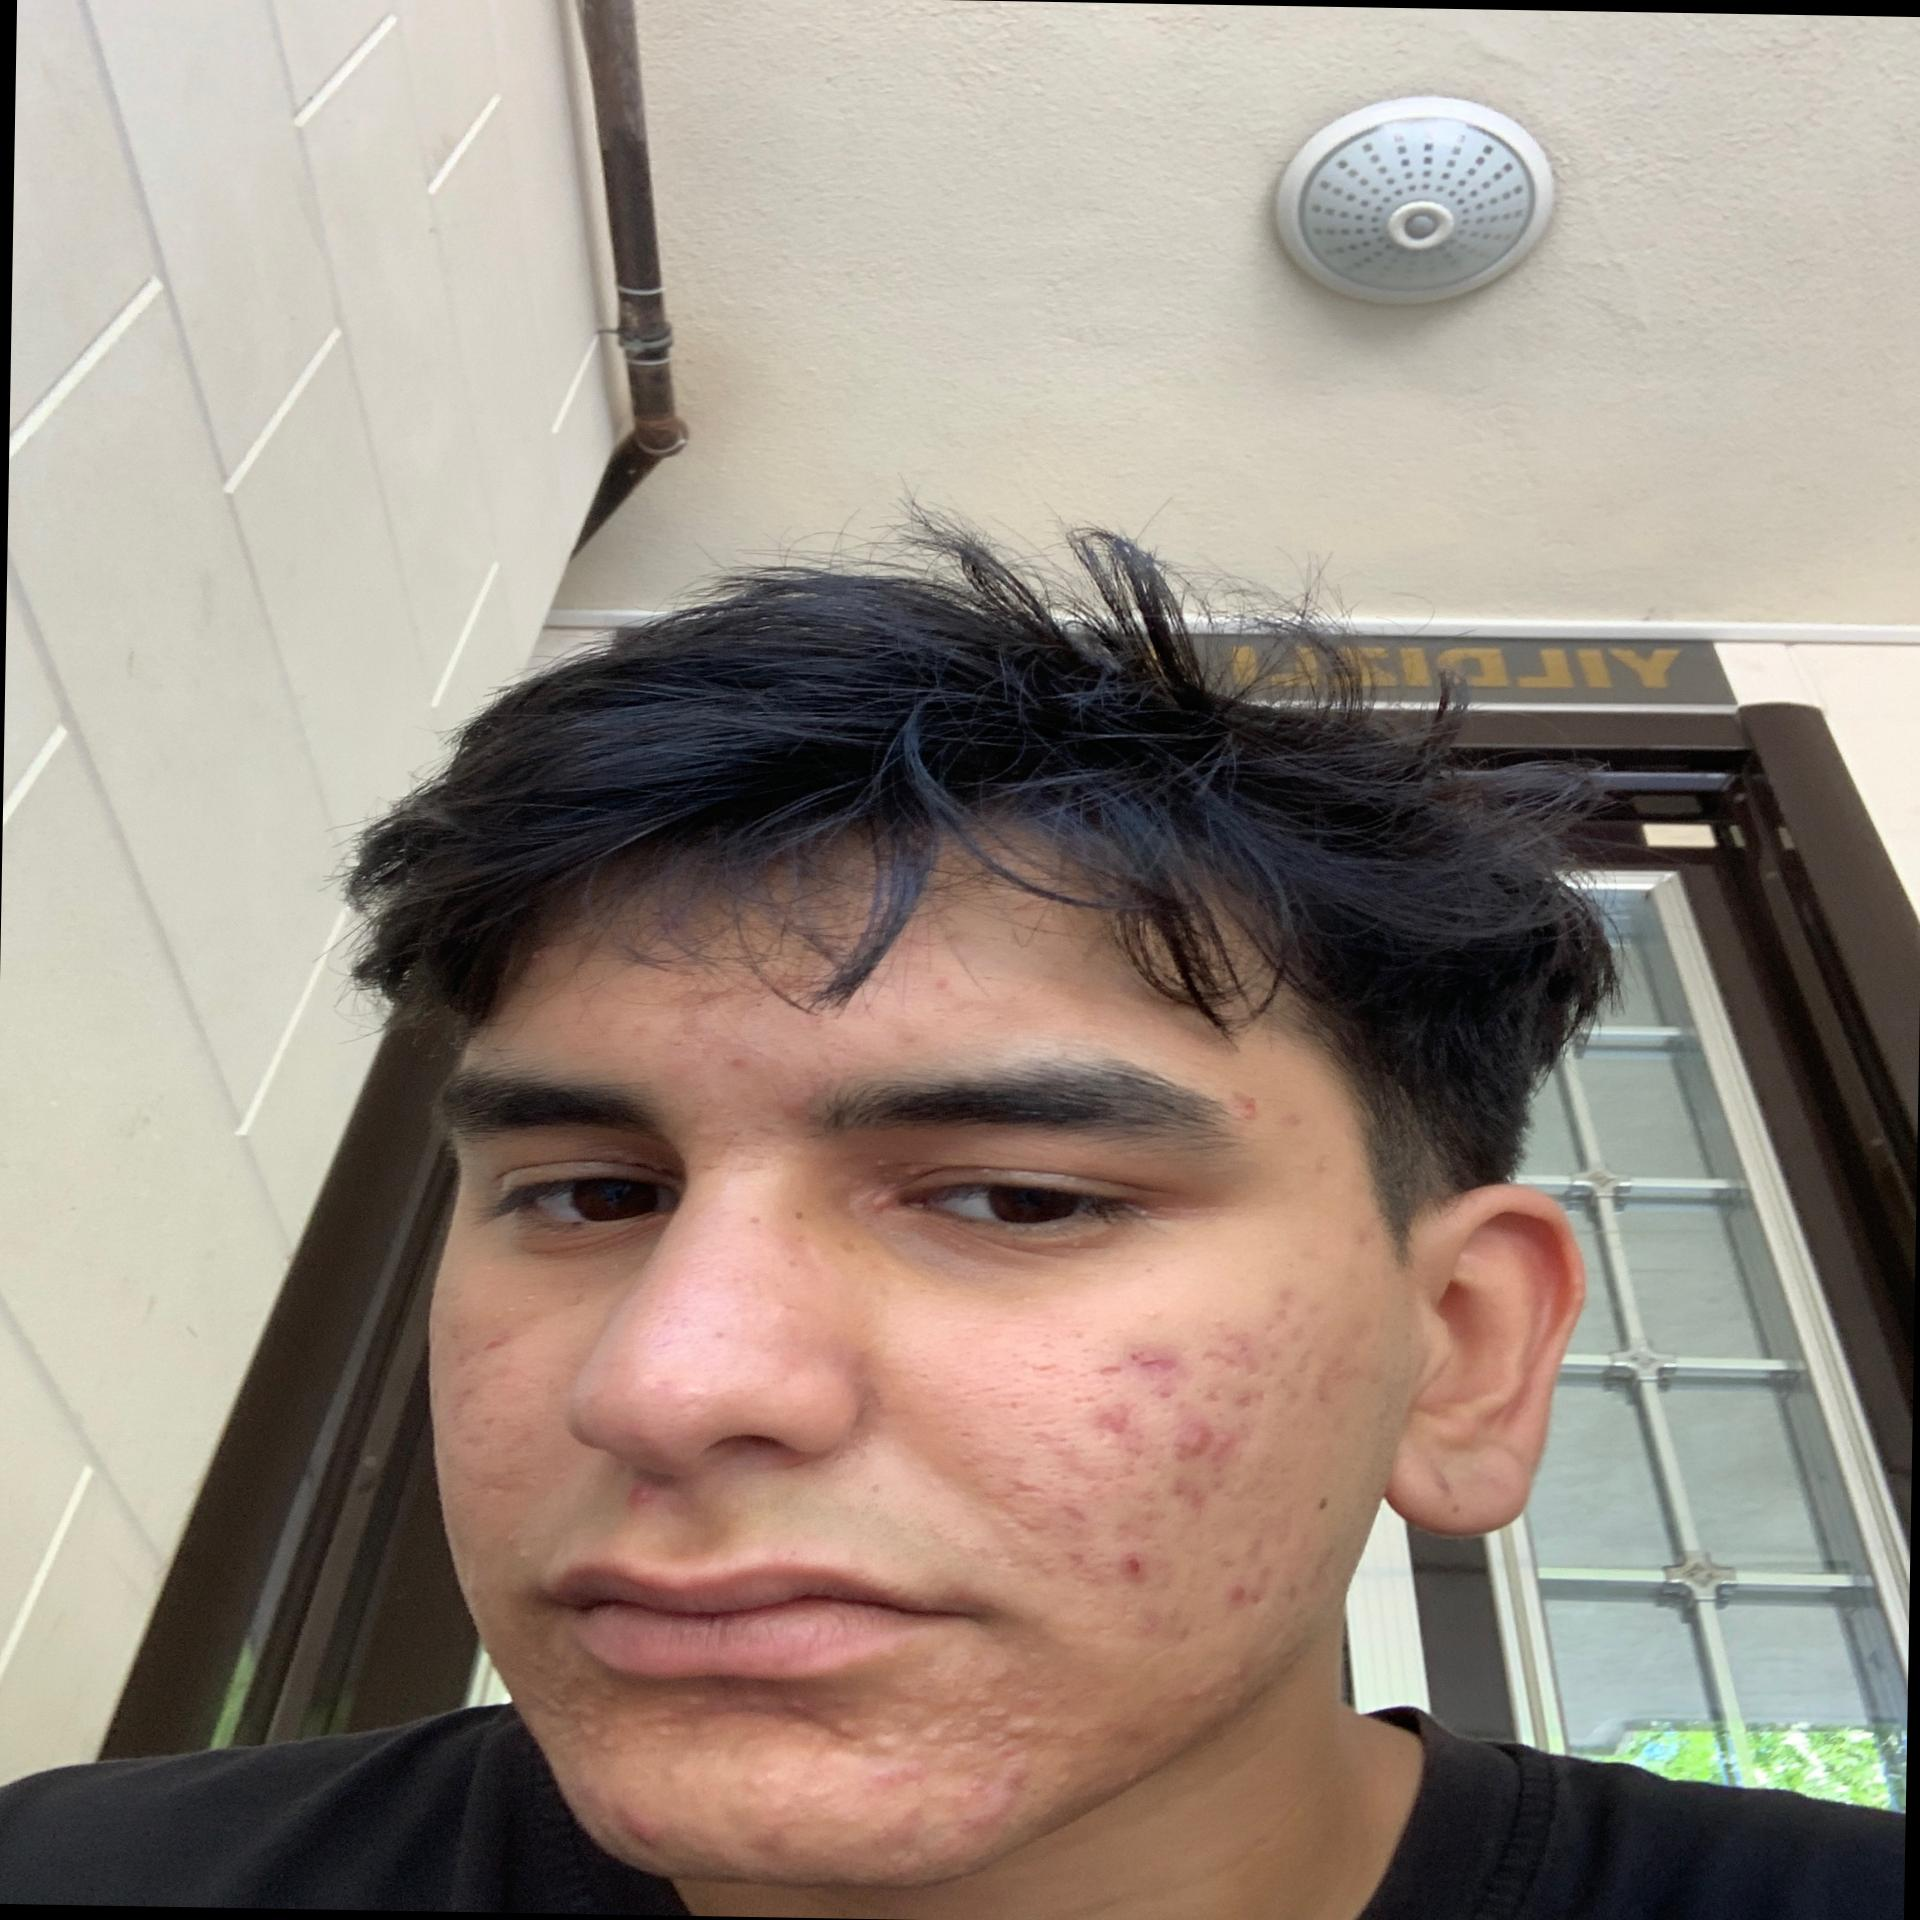Acne: (512, 1663, 816, 1762), (856, 1755, 1048, 1860), (839, 1669, 1041, 1756), (721, 1764, 826, 1851), (1025, 1424, 1162, 1486), (1159, 1414, 1238, 1516), (997, 1466, 1113, 1531), (1178, 1646, 1268, 1716), (1122, 1333, 1199, 1410), (1287, 1516, 1350, 1607), (1199, 1324, 1294, 1380), (659, 969, 726, 1043), (448, 1463, 550, 1505), (598, 1790, 668, 1848), (1120, 1595, 1185, 1655), (1060, 1714, 1162, 1751), (1291, 1342, 1347, 1408), (1011, 1540, 1095, 1584), (1213, 1558, 1276, 1609), (1197, 1377, 1269, 1421), (450, 1326, 520, 1366), (607, 1473, 677, 1514), (1108, 1540, 1153, 1588), (1225, 1081, 1269, 1125), (1087, 1403, 1139, 1438), (767, 1095, 816, 1129), (1347, 1222, 1389, 1257), (1269, 1284, 1299, 1327), (925, 964, 960, 995), (1095, 1354, 1125, 1389), (1034, 1350, 1071, 1378), (860, 1477, 904, 1500), (1298, 1155, 1331, 1183), (716, 1046, 753, 1069), (1278, 1108, 1306, 1132)
Englarged Pores: (978, 1342, 1150, 1458), (635, 1261, 721, 1356), (459, 1377, 568, 1447), (689, 1102, 774, 1176)
Wrinkles: (640, 965, 902, 1013)
